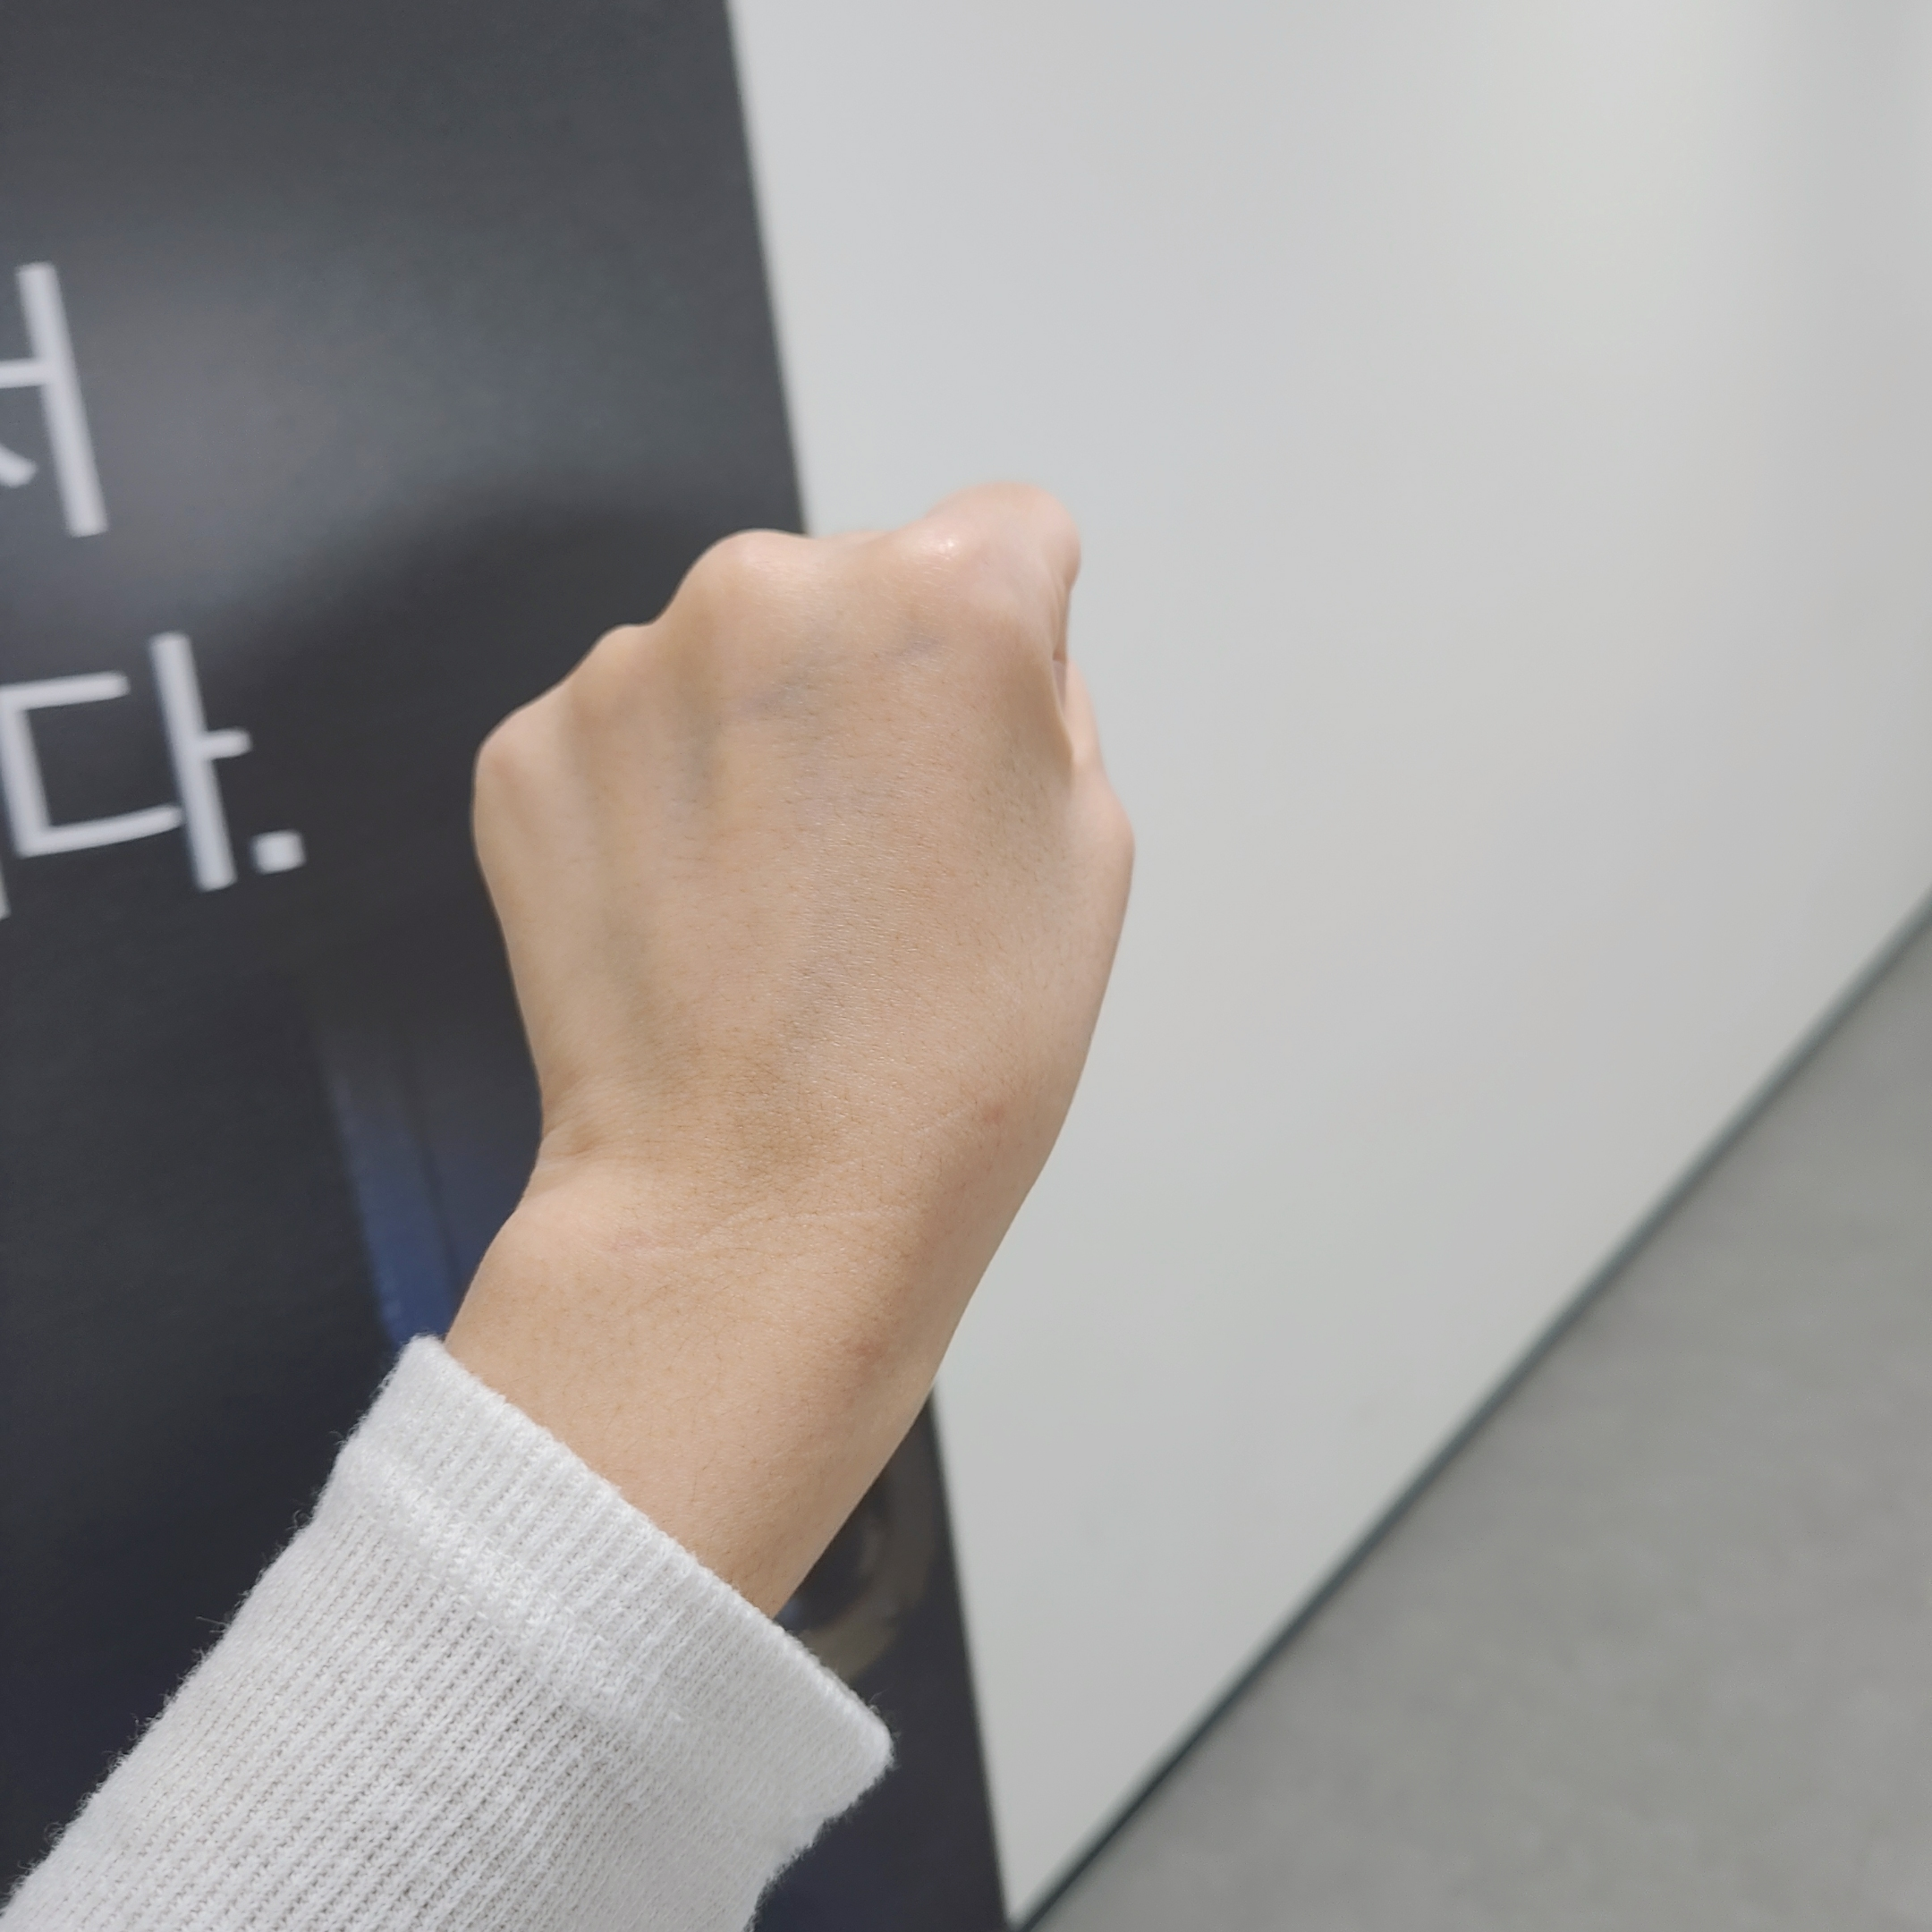smile: (451, 471, 1150, 1260)
